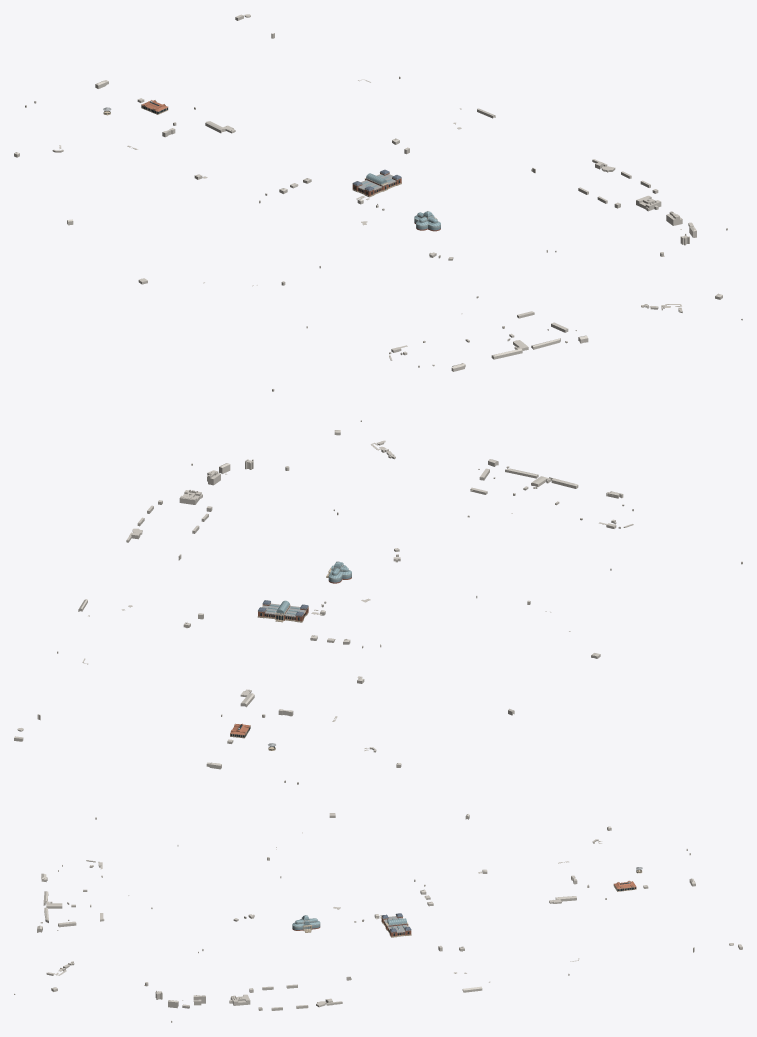
Rendered from edificios.glb.
3 renders of one model, top to bottom at view 1: azimuth 30°, elevation 25°; view 2: azimuth 150°, elevation 25°; view 3: azimuth 270°, elevation 25°, orthographic. The views are drawn at different scales.
Parts seen in each view (by area): view 1: Palacio_de_Velazquez; view 2: Palacio_de_Velazquez; view 3: Palacio_de_Velazquez.
Boxes of the visible parts, x1=… form: Palacio_de_Velazquez: x1=352, y1=169, x2=401, y2=197; Palacio_de_Velazquez: x1=257, y1=600, x2=308, y2=622; Palacio_de_Velazquez: x1=381, y1=913, x2=411, y2=937.
Size of the model in its own units: 977 by 45.89 by 1430.
14 materials, 5 textured.
